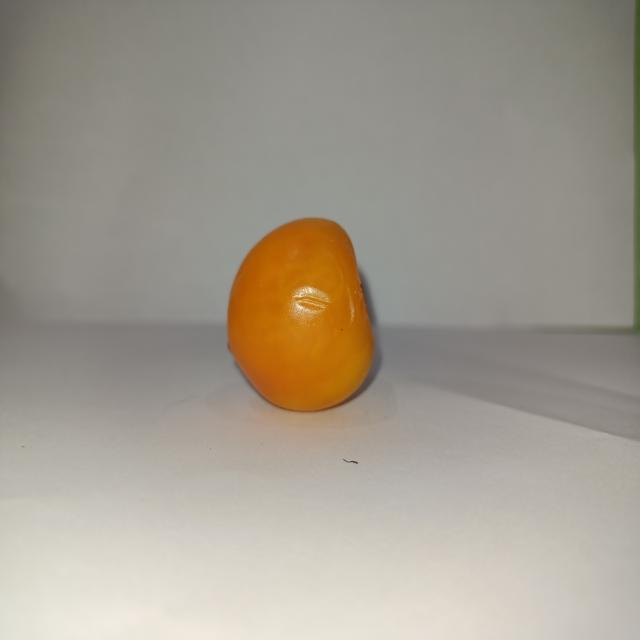Red: (225, 216, 376, 412)
